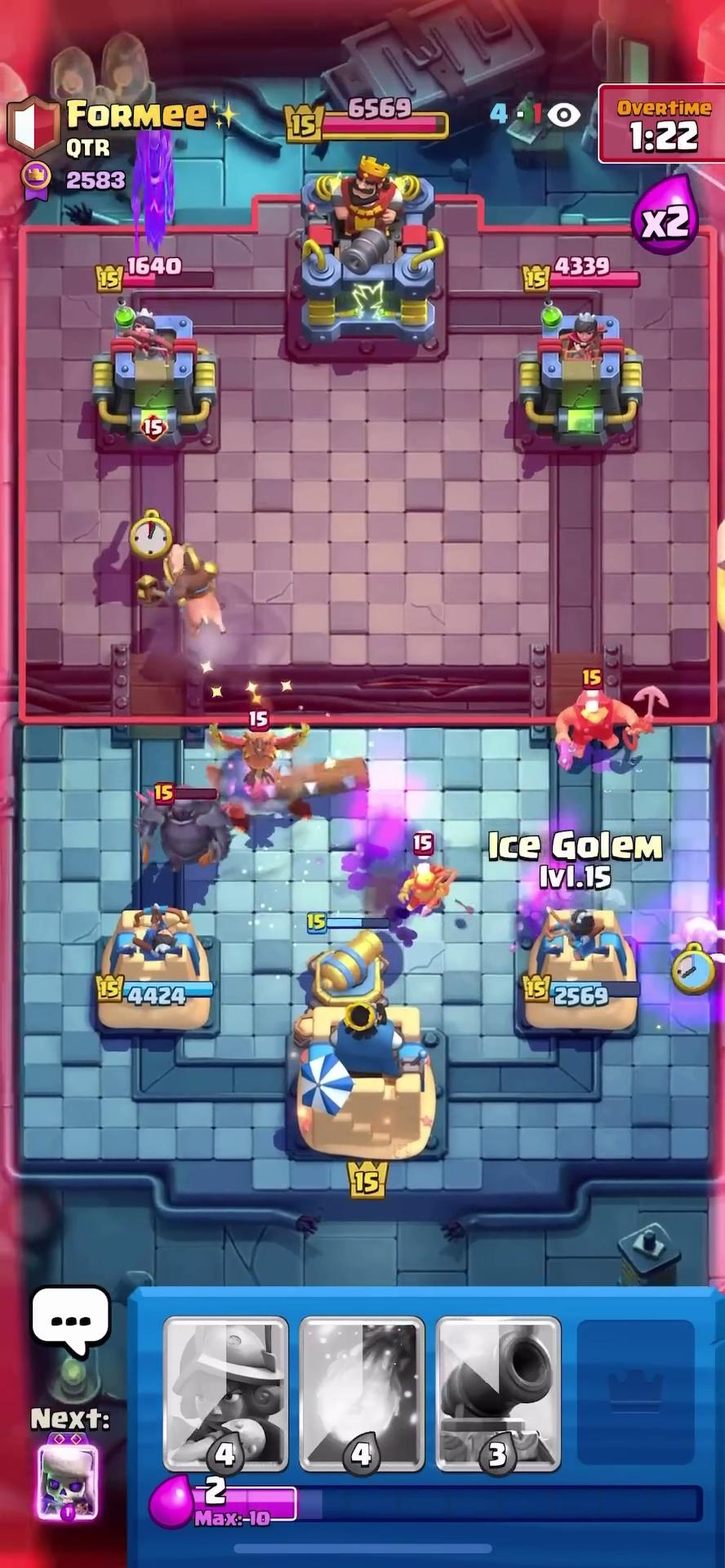cannon: (292, 917, 404, 1021)
evo_ice_spirit: (665, 898, 725, 974)
hog_rider: (139, 527, 233, 655)
log: (237, 751, 380, 802)
